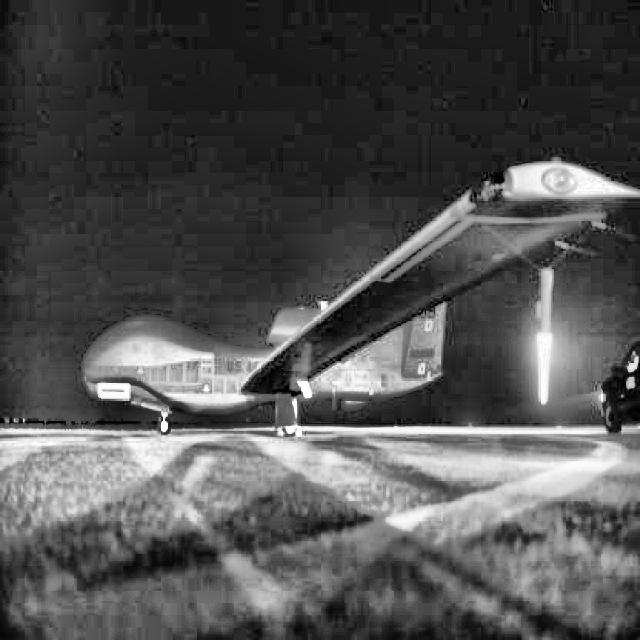RQ4: (82, 156, 640, 438)
